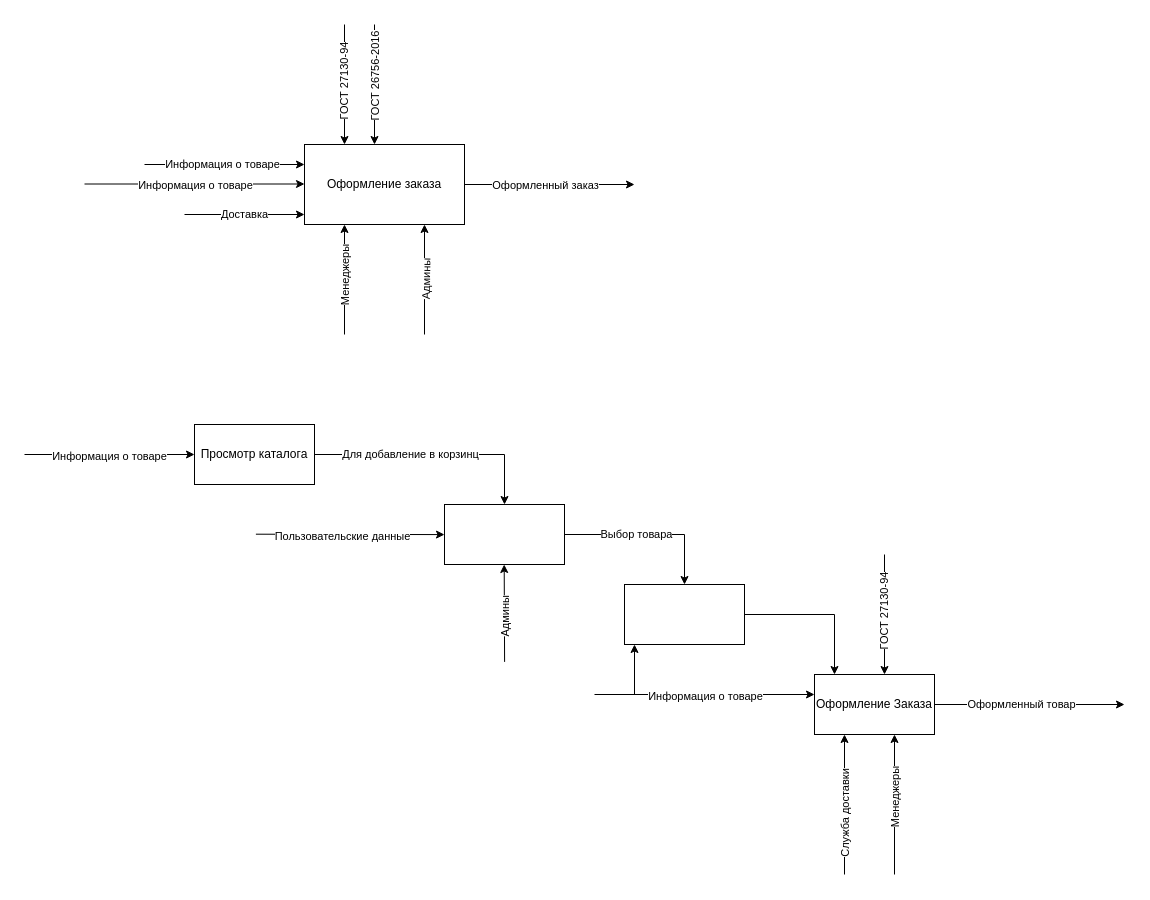
Image size: 1150x900. Some labels were removed from this diagram. The shapes that lost their labels are listed below. From the top down, each one's centre as x and y in pixels, then its label:
At point (504, 534): "Регистрация".
At point (684, 614): "Добавление в карзину".
